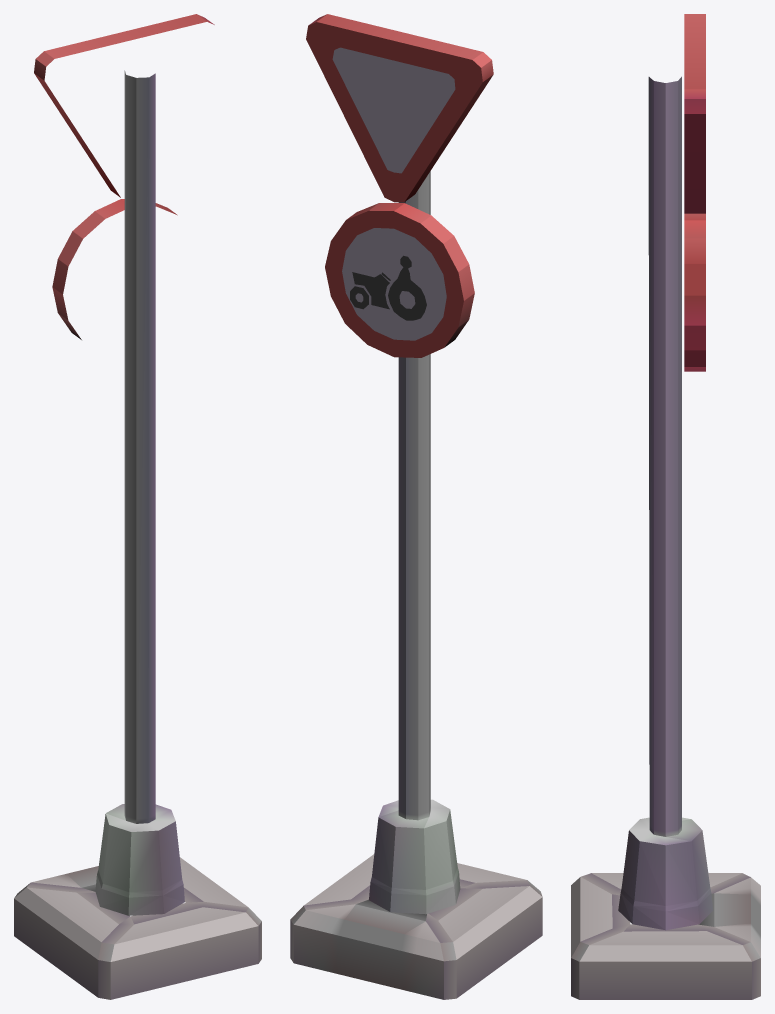
File: city_sideBump_sign01.glb
3 renders of one model, left to right at view 1: azimuth 30°, elevation 25°; view 2: azimuth 150°, elevation 25°; view 3: azimuth 270°, elevation 25°, orthographic. The views are drawn at different scales.
Parts seen in each view (by area): view 1: city_sideBump_sign01; view 2: city_sideBump_sign01; view 3: city_sideBump_sign01.
Boxes of the visible parts, x1=… form: city_sideBump_sign01: x1=14, y1=14, x2=261, y2=999; city_sideBump_sign01: x1=290, y1=14, x2=542, y2=999; city_sideBump_sign01: x1=571, y1=14, x2=760, y2=999.
Bounding box in the file's own units: 0.6827 × 3.39 × 0.6413.
